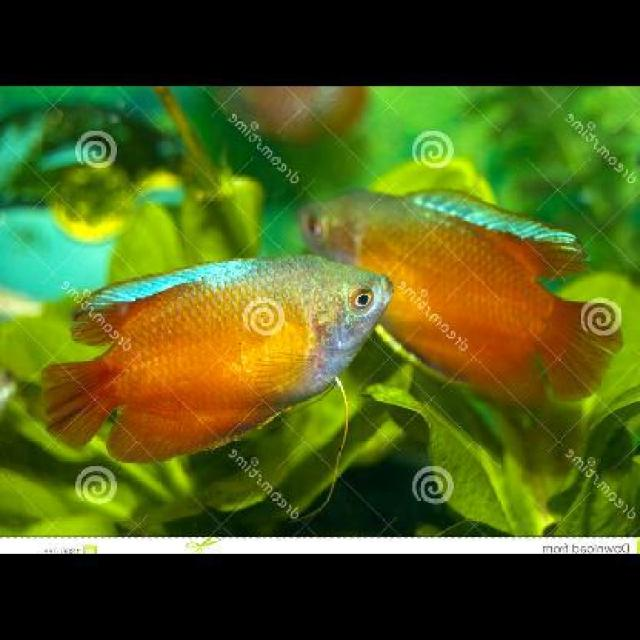Gourami: (40, 248, 394, 463), (298, 177, 624, 408)
